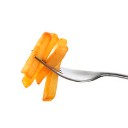frenchfries: (22, 30, 72, 105)
